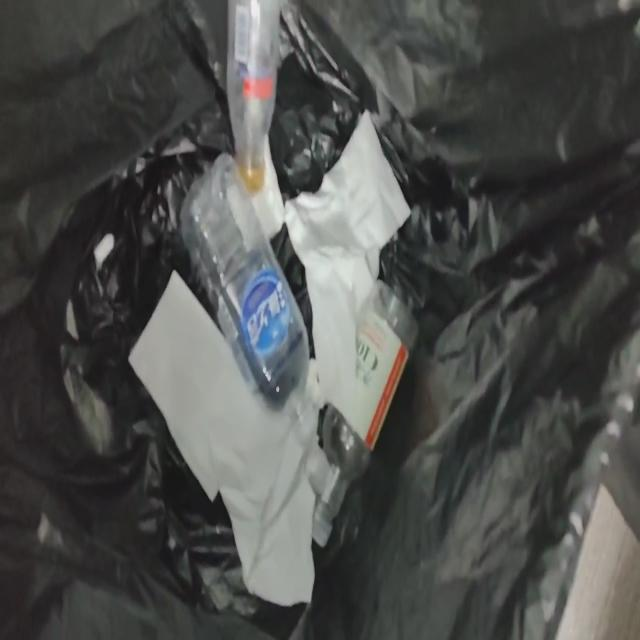bottle: (180, 154, 319, 448), (313, 280, 418, 548), (227, 0, 281, 193)
paper: (129, 271, 326, 605), (283, 111, 410, 420), (252, 140, 284, 238), (306, 360, 326, 408)
